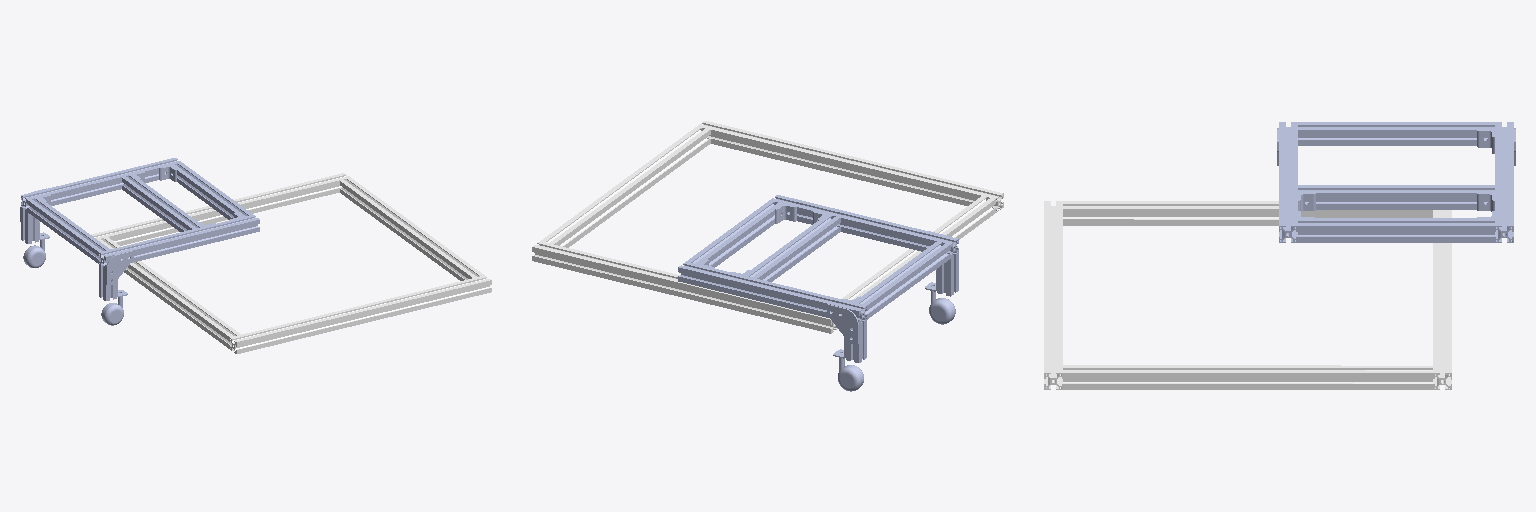
robot.urdf — ROS_Module_Assembly_Four_Wheel_v1:
<?xml version="1.0" encoding="utf-8"?>
<!-- This URDF was automatically created by SolidWorks to URDF Exporter! Originally created by [author] ([email redacted]) 
     Commit Version: 1.6.0-4-g7f85cfe  Build Version: 1.6.7995.38578
     For more information, please see http://wiki.ros.org/sw_urdf_exporter -->
<robot
  name="ROS_Module_Assembly_Four_Wheel_v1">
  
  <link    name="base_link"/>

  <link    name="base_footprint"/>

  <joint    name="base_joint"    type="fixed">
    <origin      xyz="0 0 0"      rpy="1.57 0  0" />
    <parent      link="base_link" />
    <child       link="chassis_link" />
   </joint>

  <joint    name="footprint_joint"    type="fixed">
    <origin      xyz="0 0 0"      rpy="0 0 0" />
    <child       link="base_link" />
    <parent      link="base_footprint" />
   </joint>
  
  
    <link
    name="chassis_link">
    <inertial>
      <origin
        xyz="0 0 0"
        rpy="0 0 0" />
      <mass
        value="0" />
      <inertia
        ixx="0"
        ixy="0"
        ixz="0"
        iyy="0"
        iyz="0"
        izz="0" />
    </inertial>
    <visual>
      <origin
        xyz="0 0 0"
        rpy="0 0 0" />
      <geometry>
        <mesh
          filename="package://ROS_Module_Assembly_Four_Wheel_v1/meshes/chassis_link.STL" />
      </geometry>
      <material
        name="">
        <color
          rgba="1 1 1 1" />
      </material>
    </visual>
    <collision>
      <origin
        xyz="0 0 0"
        rpy="0 0 0" />
      <geometry>
        <mesh

          filename="package://ROS_Module_Assembly_Four_Wheel_v1/meshes/chassis_link.STL" />
      </geometry>
    </collision>
  </link>
  <joint
    name="base_to_chassis"
    type="fixed">
    <!-- <origin
      xyz="0.25 -0.24 -0.0209"
      rpy="0 0 1.5708" /> -->
      <origin
      xyz="-0.25 0.0209 -0.24"
      rpy="-1.57 0 0" />
    <child
      link="base_link_module" />
    <parent
      link="chassis_link" />
    <axis
      xyz="0 0 0" />
  </joint>
  
  <link
    name="base_link_module">
    <inertial>
      <origin
        xyz="0.031724 -0.12886 -0.039095"
        rpy="0 0 0" />
      <mass
        value="2.1961" />
      <inertia
        ixx="0.0063697"
        ixy="3.3879E-05"
        ixz="-1.3091E-07"
        iyy="0.0035478"
        iyz="-1.1651E-06"
        izz="0.009033" />
    </inertial>
    <visual>
      <origin
        xyz="0 0 0"
        rpy="0 0 0" />
      <geometry>
        <mesh
          filename="package://ROS_Module_Assembly_Four_Wheel_v1/meshes/base_link.STL" />
      </geometry>
      <material
        name="">
        <color
          rgba="0.79216 0.81961 0.93333 1" />
      </material>
    </visual>
    <collision>
      <origin
        xyz="0 0 0"
        rpy="0 0 0" />
      <geometry>
        <mesh
          filename="package://ROS_Module_Assembly_Four_Wheel_v1/meshes/base_link.STL" />
      </geometry>
    </collision>
  </link>
  <link
    name="input_rot_motor">
    <inertial>
      <origin
        xyz="-4.2772E-05 0.032009 7.4354E-05"
        rpy="0 0 0" />
      <mass
        value="0.025091" />
      <inertia
        ixx="7.1785E-06"
        ixy="6.7784E-10"
        ixz="-1.1692E-08"
        iyy="2.3424E-06"
        iyz="-1.1777E-09"
        izz="7.1921E-06" />
    </inertial>
    <visual>
      <origin
        xyz="0 0 0"
        rpy="0 0 0" />
      <geometry>
        <mesh
          filename="package://ROS_Module_Assembly_Four_Wheel_v1/meshes/input_rot_motor.STL" />
      </geometry>
      <material
        name="">
        <color
          rgba="0.79216 0.81961 0.93333 1" />
      </material>
    </visual>
    <collision>
      <origin
        xyz="0 0 0"
        rpy="0 0 0" />
      <geometry>
        <mesh
          filename="package://ROS_Module_Assembly_Four_Wheel_v1/meshes/input_rot_motor.STL" />
      </geometry>
    </collision>
  </link>
  <joint
    name="base_to_input_rot_motor"
    type="continuous">
    <origin
      xyz="-0.0042500000000002 -0.18426521062757 -0.00899999999999995"
      rpy="1.5707963267949 0 -1.5707963267949" />
    <parent
      link="base_link_module" />
    <child
      link="input_rot_motor" />
    <axis
      xyz="0 1 0" />
  </joint>
  <link
    name="input_transl_motor">
    <inertial>
      <origin
        xyz="-1.865E-05 0.047153 -6.6546E-05"
        rpy="0 0 0" />
      <mass
        value="0.032255" />
      <inertia
        ixx="1.5951E-05"
        ixy="1.8513E-09"
        ixz="3.575E-09"
        iyy="2.7304E-06"
        iyz="6.6055E-09"
        izz="1.5963E-05" />
    </inertial>
    <visual>
      <origin
        xyz="0 0 0"
        rpy="0 0 0" />
      <geometry>
        <mesh
          filename="package://ROS_Module_Assembly_Four_Wheel_v1/meshes/input_transl_motor.STL" />
      </geometry>
      <material
        name="">
        <color
          rgba="0.79216 0.81961 0.93333 1" />
      </material>
    </visual>
    <collision>
      <origin
        xyz="0 0 0"
        rpy="0 0 0" />
      <geometry>
        <mesh
          filename="package://ROS_Module_Assembly_Four_Wheel_v1/meshes/input_transl_motor.STL" />
      </geometry>
    </collision>
  </link>
  <joint
    name="base_to_transl_input"
    type="continuous">
    <origin
      xyz="0.0761500000000042 -0.168973339641516 -0.00800000000000012"
      rpy="1.5707963267949 0 -1.85423215999576" />
    <parent
      link="base_link_module" />
    <child
      link="input_transl_motor" />
    <axis
      xyz="0 1 0" />
  </joint>
  <link
    name="fork">
    <inertial>
      <origin
        xyz="9.7197E-05 0.019855 -0.17644"
        rpy="0 0 0" />
      <mass
        value="2.1939" />
      <inertia
        ixx="0.0090617"
        ixy="-1.5464E-08"
        ixz="4.262E-06"
        iyy="0.01149"
        iyz="2.9335E-05"
        izz="0.0039097" />
    </inertial>
    <visual>
      <origin
        xyz="0 0 0"
        rpy="0 0 0" />
      <geometry>
        <mesh
          filename="package://ROS_Module_Assembly_Four_Wheel_v1/meshes/fork.STL" />
      </geometry>
      <material
        name="">
        <color
          rgba="0.79216 0.81961 0.93333 1" />
      </material>
    </visual>
    <collision>
      <origin
        xyz="0 0 0"
        rpy="0 0 0" />
      <geometry>
        <mesh
          filename="package://ROS_Module_Assembly_Four_Wheel_v1/meshes/fork.STL" />
      </geometry>
    </collision>
  </link>
  <joint
    name="base_to_rot_fork"
    type="continuous">
    <origin
      xyz="0 0 0"
      rpy="0 0 0" />
    <parent
      link="base_link_module" />
    <child
      link="fork" />
    <axis
      xyz="0 0 1" />
  </joint>
  <link
    name="wheel">
    <inertial>
      <origin
        xyz="-3.0377E-06 -3.9614E-06 -0.0039564"
        rpy="0 0 0" />
      <mass
        value="2.0757" />
      <inertia
        ixx="0.016615"
        ixy="-4.0151E-09"
        ixz="9.5859E-08"
        iyy="0.016615"
        iyz="1.5018E-09"
        izz="0.0323" />
    </inertial>
    <visual>
      <origin
        xyz="0 0 0"
        rpy="0 0 0" />
      <geometry>
        <mesh
          filename="package://ROS_Module_Assembly_Four_Wheel_v1/meshes/wheel.STL" />
      </geometry>
      <material
        name="">
        <color
          rgba="0.79216 0.81961 0.93333 1" />
      </material>
    </visual>
    <collision>
      <origin
        xyz="0 0 0"
        rpy="0 0 0" />
      <geometry>
        <mesh
          filename="package://ROS_Module_Assembly_Four_Wheel_v1/meshes/wheel.STL" />
      </geometry>
    </collision>
  </link>
  <joint
    name="fork_to_wheel"
    type="continuous">
    <origin
      xyz="0 0.000500000000000458 -0.335999999999999"
      rpy="1.5707963267949 0 0" />
    <parent
      link="fork" />
    <child
      link="wheel" />
    <axis
      xyz="0 0 -1" />
  </joint>
  <link
    name="vert_bevel_shaft">
    <inertial>
      <origin
        xyz="-2.1092E-05 1.2062E-06 -0.034965"
        rpy="0 0 0" />
      <mass
        value="0.11927" />
      <inertia
        ixx="0.00012323"
        ixy="-6.9262E-10"
        ixz="4.6605E-08"
        iyy="0.00012322"
        iyz="-2.6667E-09"
        izz="6.1731E-05" />
    </inertial>
    <visual>
      <origin
        xyz="0 0 0"
        rpy="0 0 0" />
      <geometry>
        <mesh
          filename="package://ROS_Module_Assembly_Four_Wheel_v1/meshes/vert_bevel_shaft.STL" />
      </geometry>
      <material
        name="">
        <color
          rgba="0.79216 0.81961 0.93333 1" />
      </material>
    </visual>
    <collision>
      <origin
        xyz="0 0 0"
        rpy="0 0 0" />
      <geometry>
        <mesh
          filename="package://ROS_Module_Assembly_Four_Wheel_v1/meshes/vert_bevel_shaft.STL" />
      </geometry>
    </collision>
  </link>
  <joint
    name="base_to_rot_bevel_shaft"
    type="continuous">
    <origin
      xyz="0 0 0"
      rpy="3.1416 0 -1.5708" />
    <parent
      link="base_link_module" />
    <child
      link="vert_bevel_shaft" />
    <axis
      xyz="0 0 -1" />
  </joint>
</robot>

--- What the picture shows (computed from the rendered views, not written in the file) ---
3 views of the same robot in one strip: view 1: azimuth 30°, elevation 25°; view 2: azimuth 150°, elevation 25°; view 3: azimuth 270°, elevation 25° (orthographic).
Model ROS_Module_Assembly_Four_Wheel_v1 with 9 links and 8 joints (5 continuous, 3 fixed), rooted at base_footprint, posed all joints at 0.
Visible links, largest first — view 1: chassis_link, base_link_module; view 2: chassis_link, base_link_module; view 3: chassis_link, base_link_module.
Link boxes in pixels (x1,y1,x2,y2): chassis_link: (91, 173, 491, 353); base_link_module: (20, 158, 259, 325); chassis_link: (532, 121, 1003, 333); base_link_module: (678, 195, 958, 391); chassis_link: (1044, 201, 1451, 389); base_link_module: (1277, 122, 1515, 242).
Size in the robot's own frame: 0.78 by 0.763 by 0.1782 metres.
2 mesh visuals loaded from 7 distinct referenced files (2 binary STL); not drawn: 5 (reference not matched to a file when rendering).